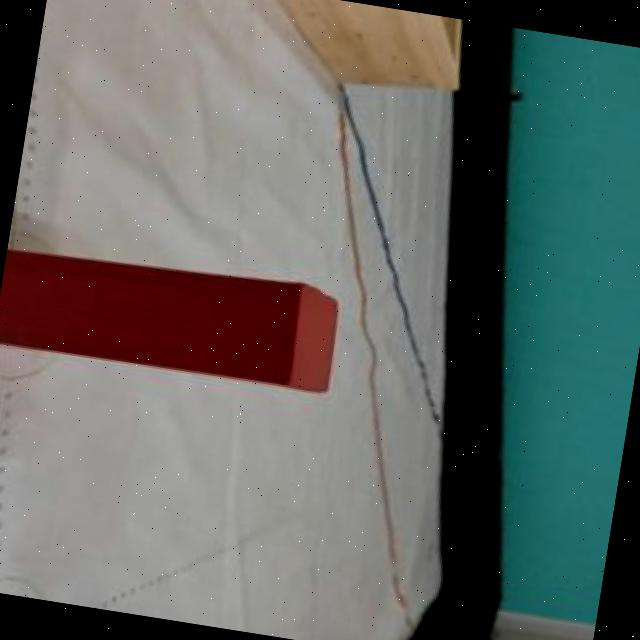redbox: (0, 234, 350, 401)
